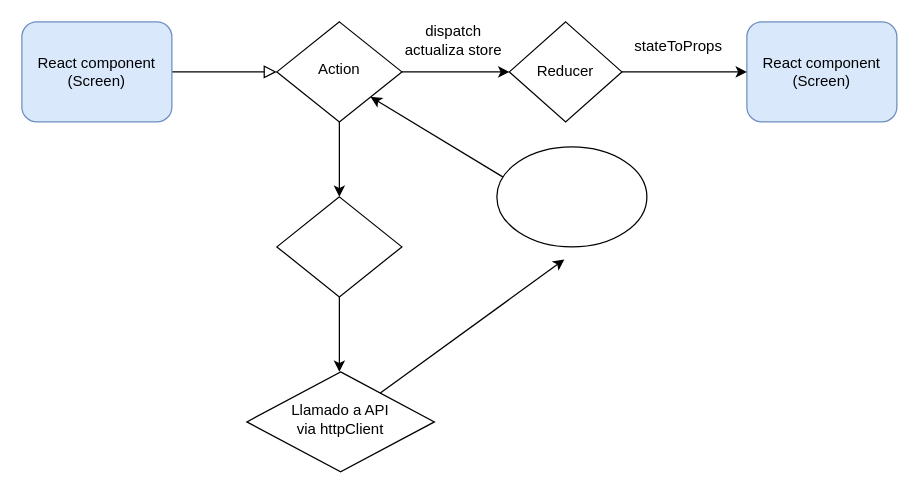
This 919x494 diagram has some shape labels left out. The shapes that lost their labels are listed below. From the top down, each one's centre as x and y in pixels, then its label:
[571,196]: Respuesta API
[339,246]: Función 'service'
